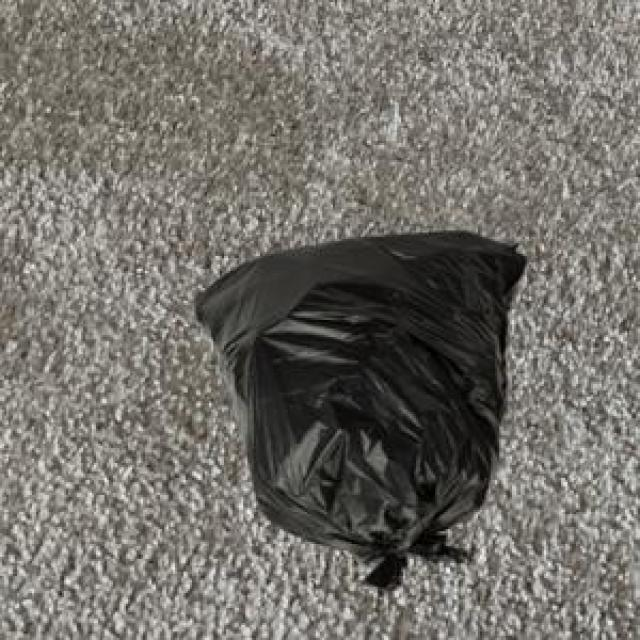Vinyl: (198, 231, 525, 586)
